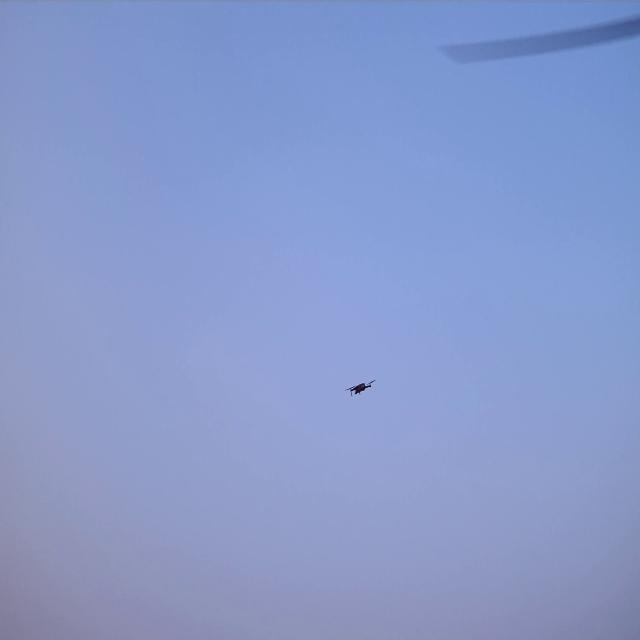UAV: (349, 381, 372, 394)
